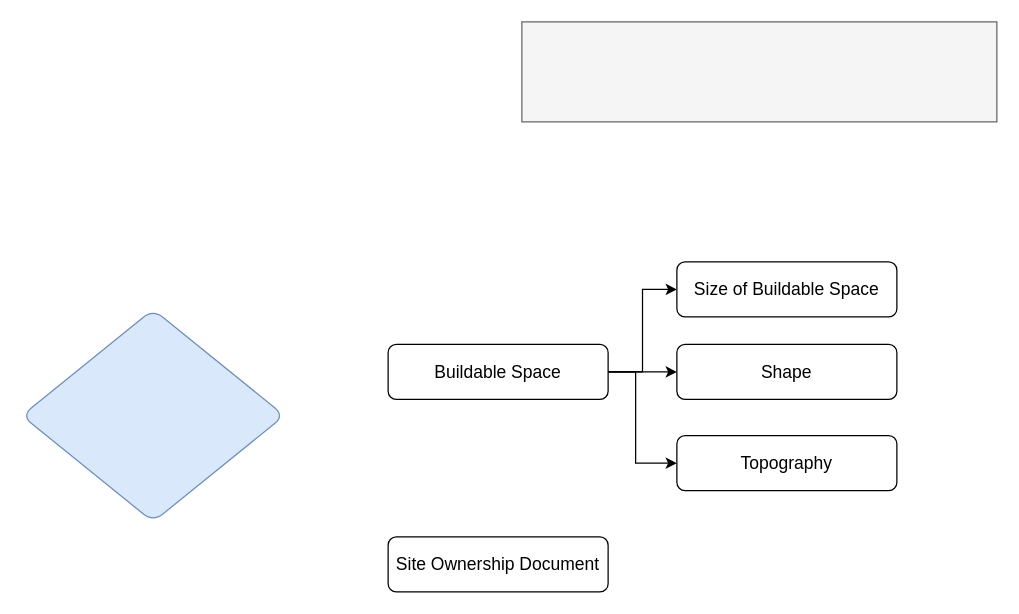
The diagram is 1019 pixels wide and 614 high, and some of its shapes have lost their labels. Each missing label, with the centre of its shape:
New Construction: point (759, 71)
School Priority Score: point (152, 415)
